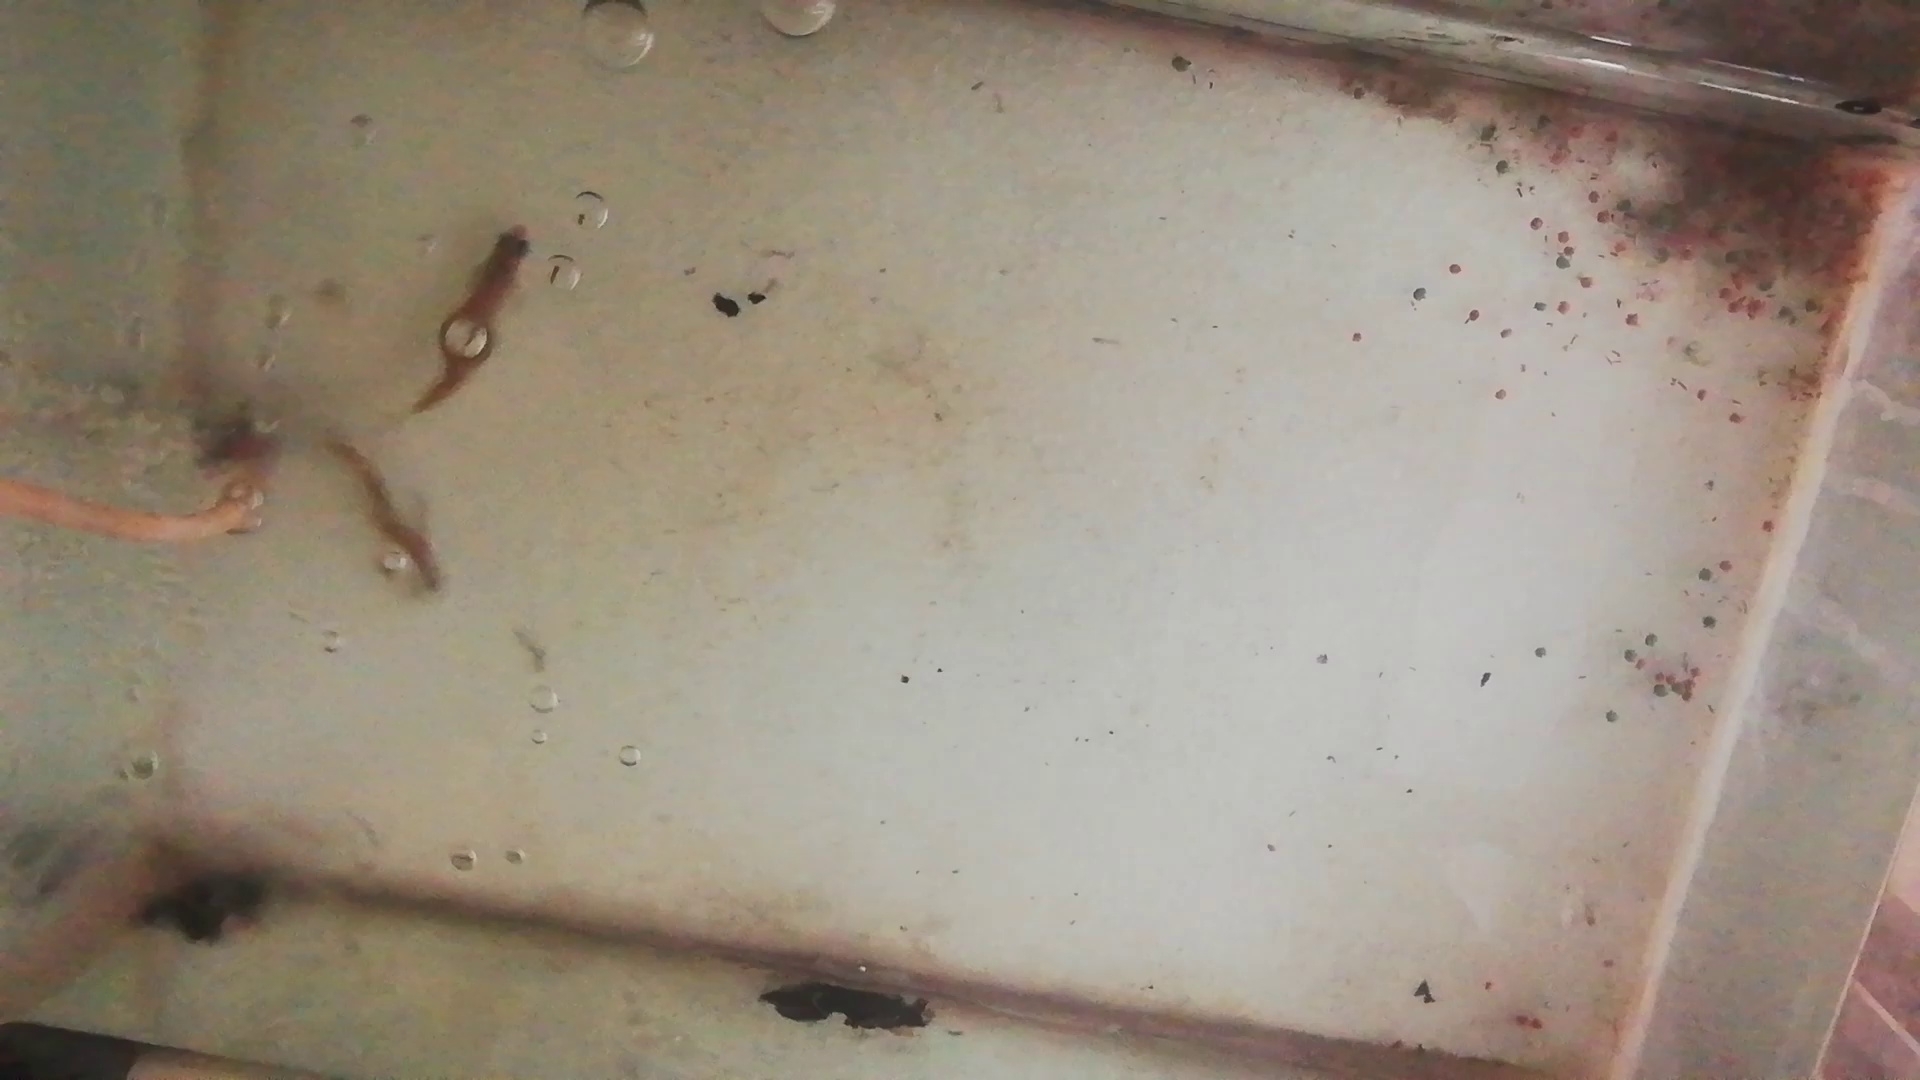fish: (413, 223, 527, 421), (307, 430, 450, 587)
